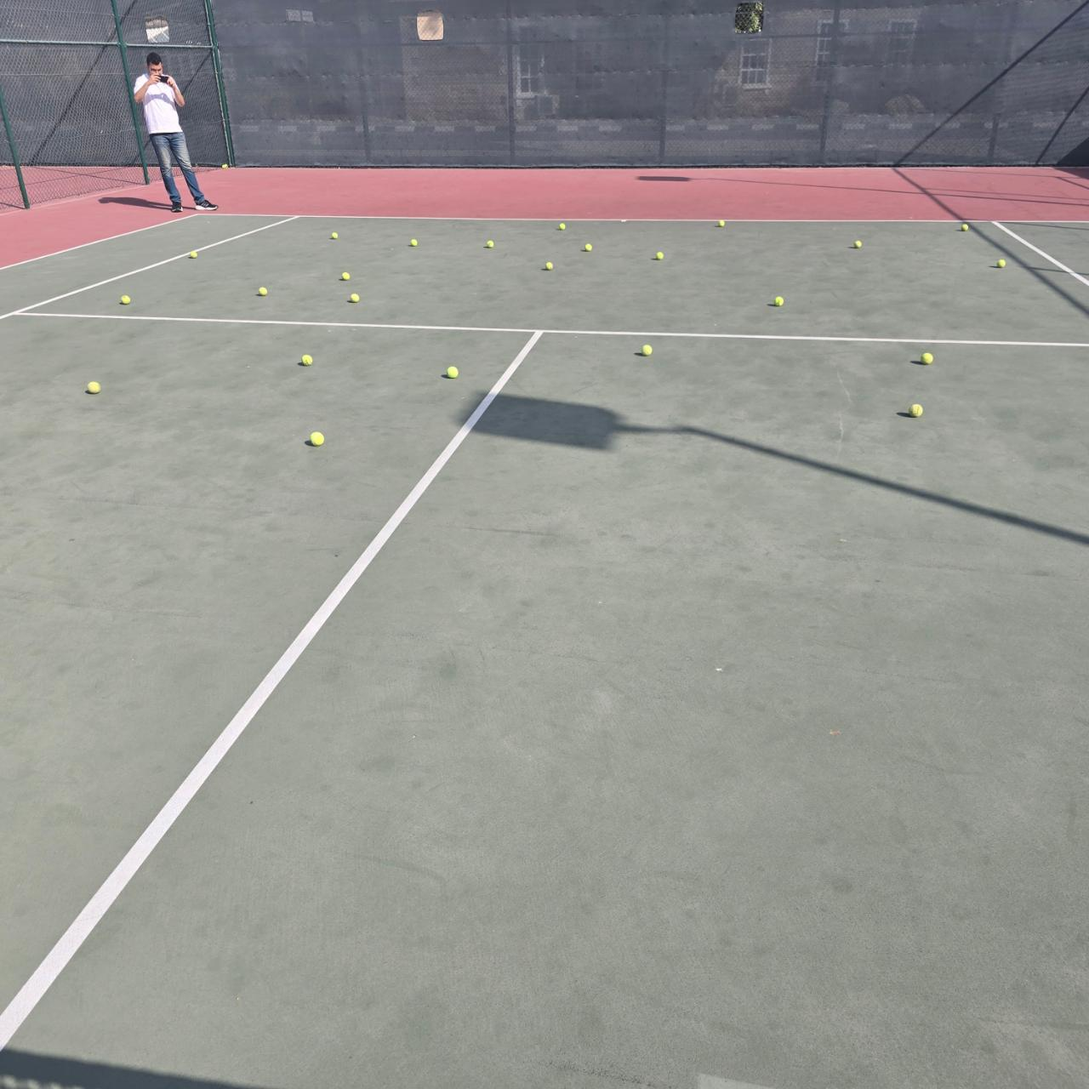tennis-ball: (308, 429, 324, 446), (84, 379, 101, 394), (909, 403, 923, 417), (445, 366, 459, 379), (920, 351, 933, 364), (301, 354, 313, 366), (641, 344, 653, 356), (350, 293, 360, 303), (774, 296, 784, 306), (121, 294, 130, 305), (258, 287, 268, 296), (341, 272, 350, 281), (545, 261, 554, 270), (997, 259, 1006, 268), (585, 243, 593, 252), (656, 251, 664, 260), (190, 251, 198, 259), (854, 241, 862, 249), (961, 224, 969, 232), (331, 232, 338, 240), (487, 240, 494, 248), (559, 222, 566, 230), (411, 238, 417, 247), (718, 220, 725, 227), (222, 164, 228, 169)
